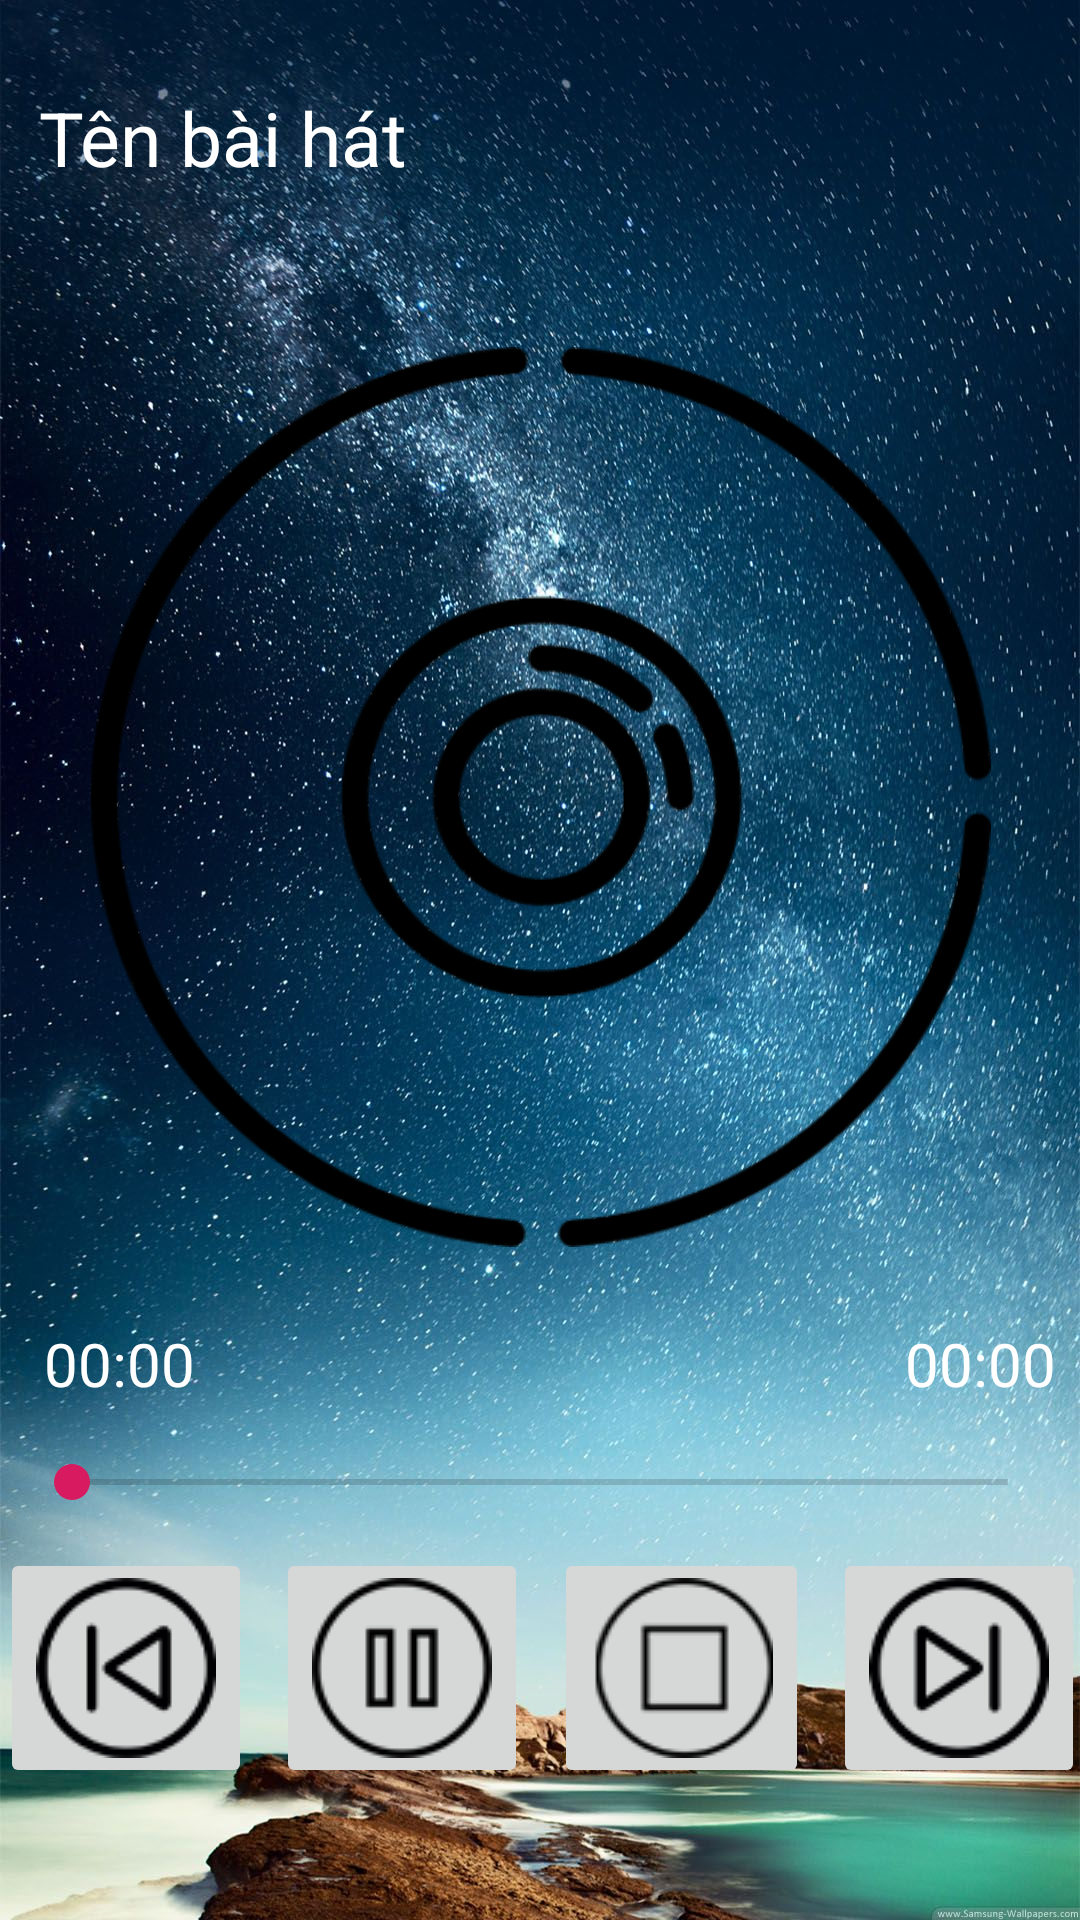

Point at icon controls on the screen. Image size 1080 x 1920, points as (x,y).
back: (126,1668)
next: (956,1668)
pause: (402,1668)
stop: (681,1668)
